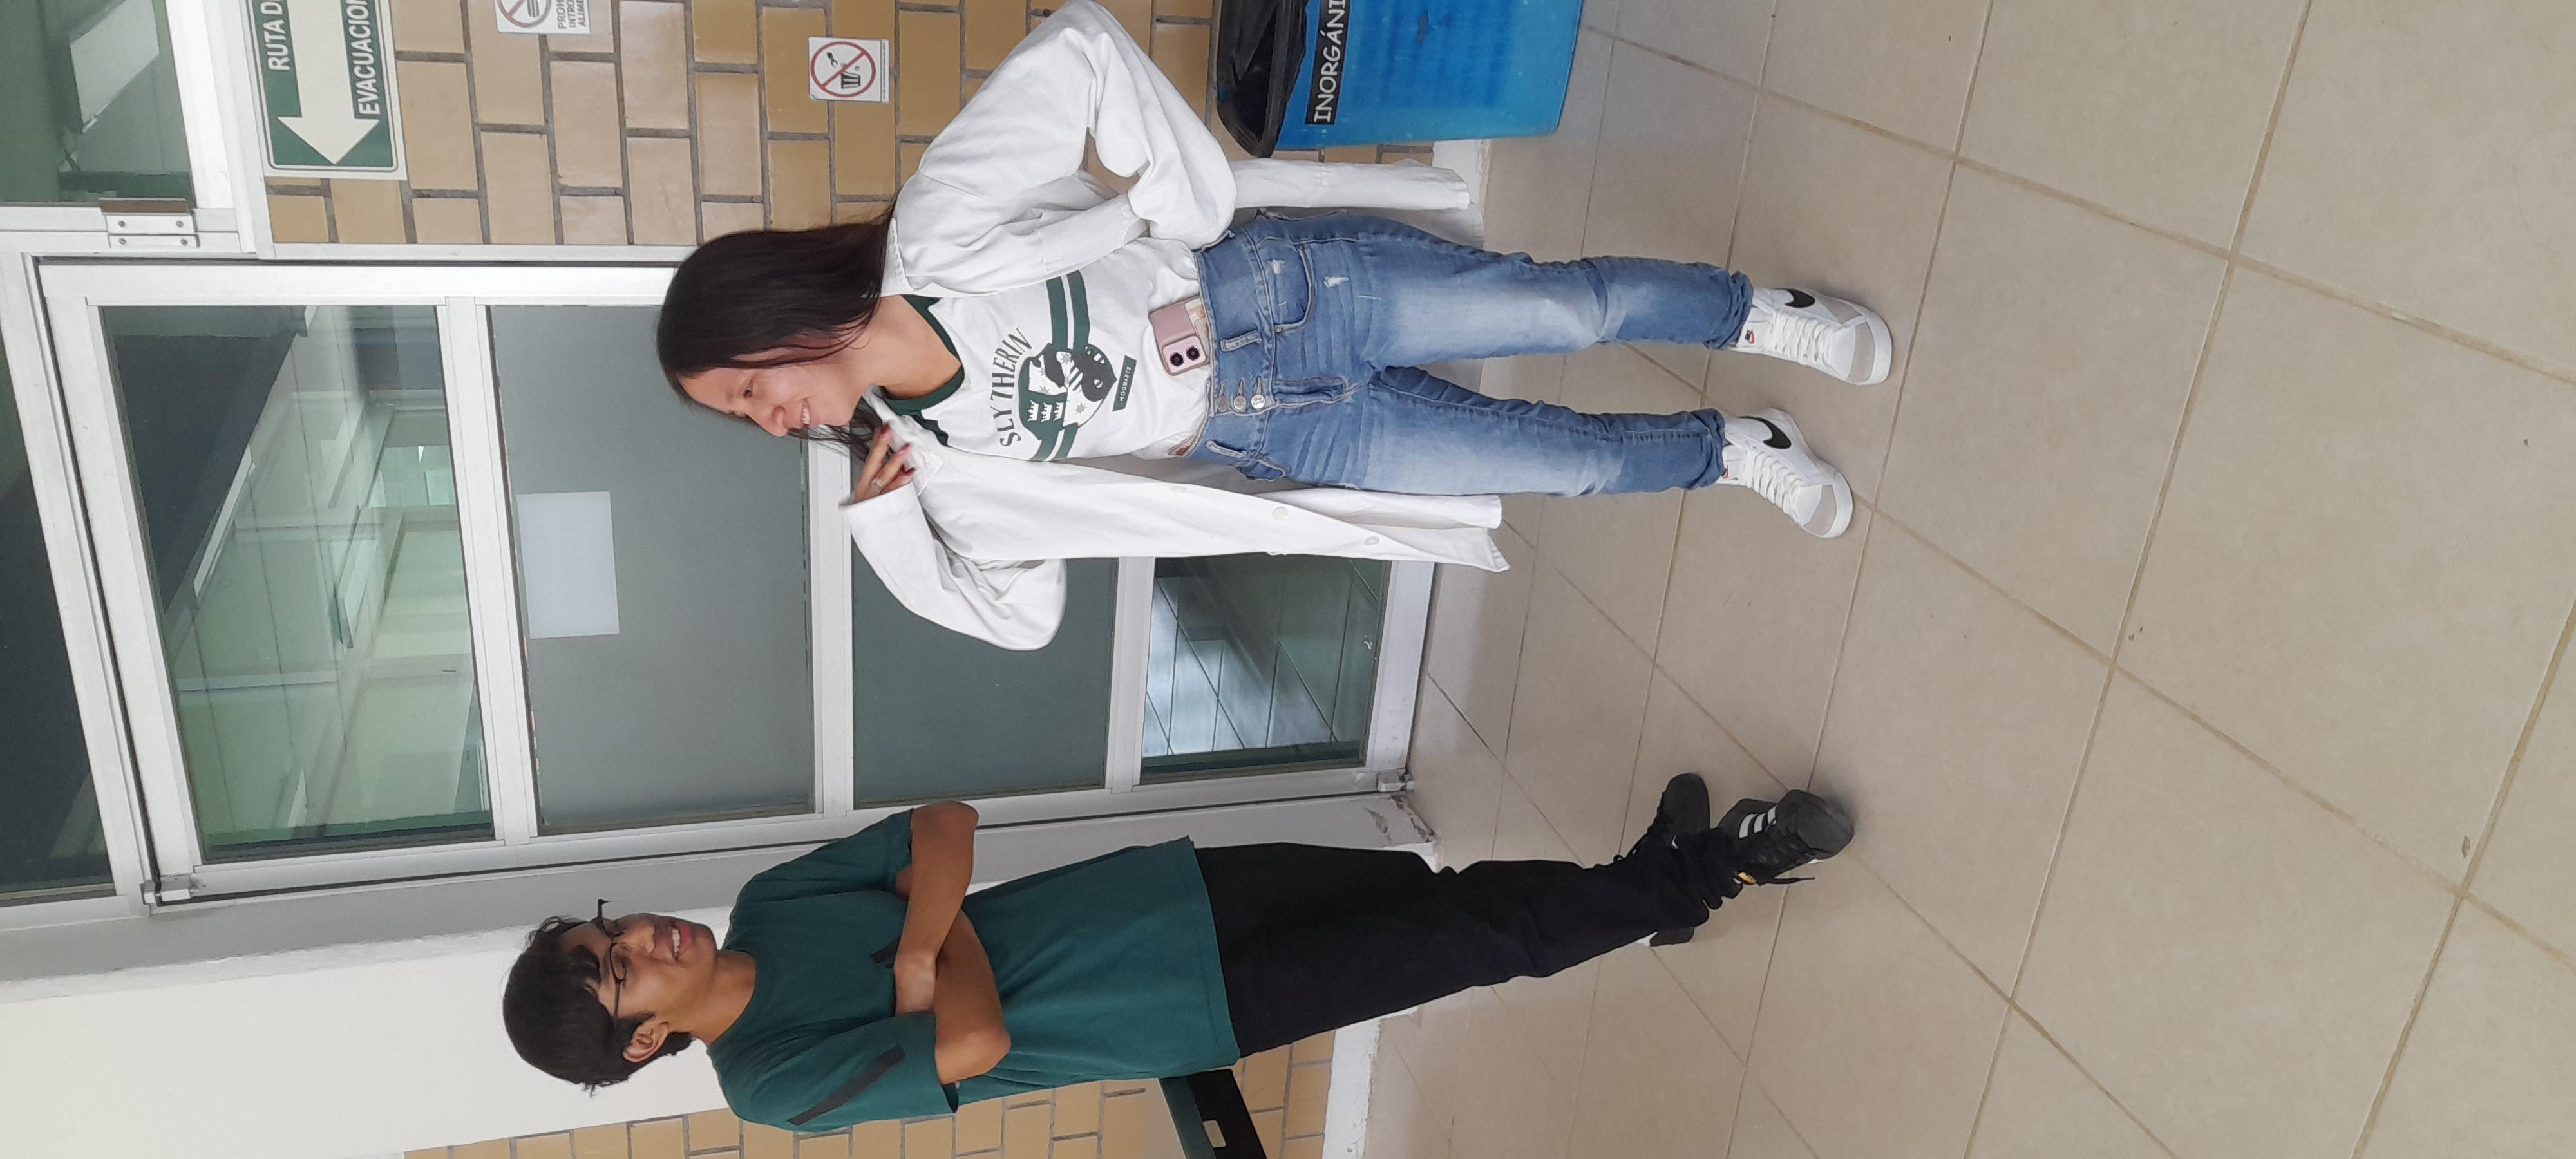Bata-Incorrecta: (1130, 277, 2576, 872)
